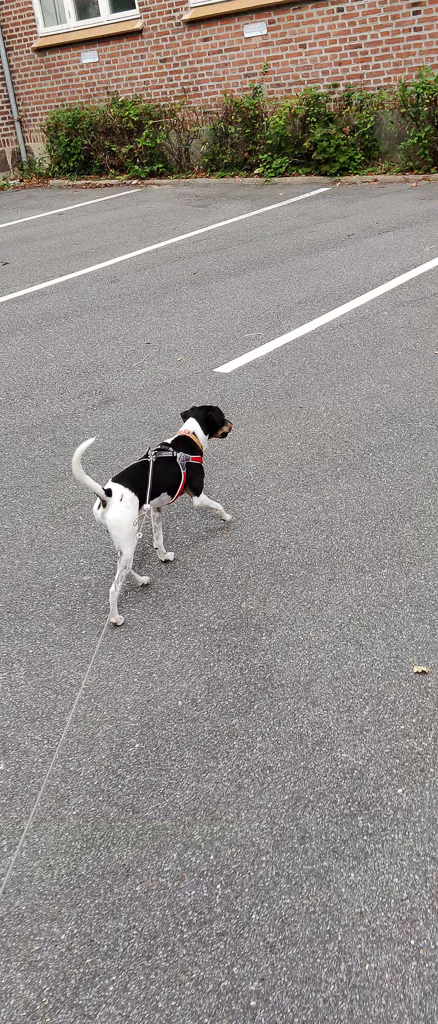Dog: (65, 395, 243, 638)
